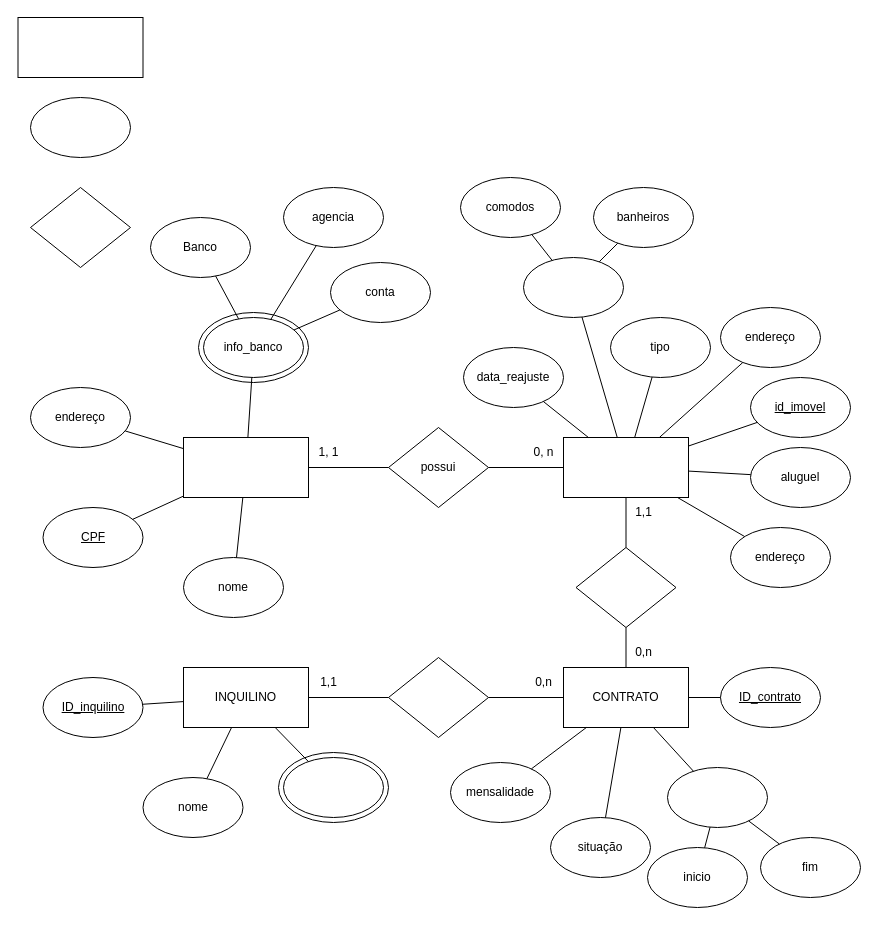
Some shapes in this 878 by 925 pixel diagram are drawn without their labels. The shapes that lost their labels are listed below. From the top down, each one's centre as x and y in pixels, then its label:
At (x=573, y=287): "quantidade".
At (x=245, y=467): "PROPRIETARIO".
At (x=625, y=467): "IMOVEL".
At (x=625, y=587): "tem".
At (x=438, y=697): "assina".
At (x=333, y=787): "telefone".
At (x=717, y=797): "data".
